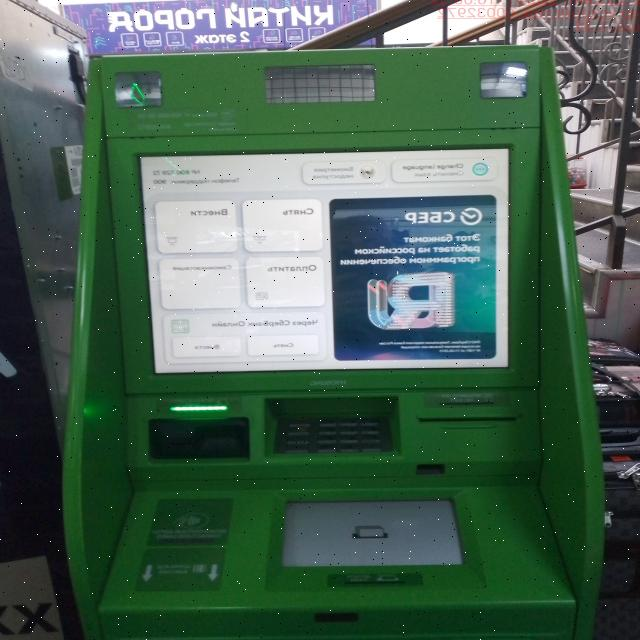bank: (62, 38, 600, 640)
